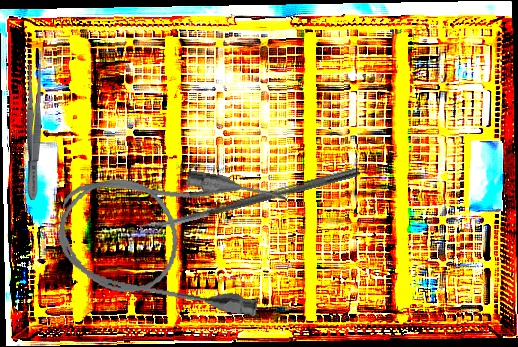Cannula: (50, 151, 290, 319)
Dressing Forceps: (23, 63, 44, 201)
Surgical Spoon: (139, 165, 361, 235)
